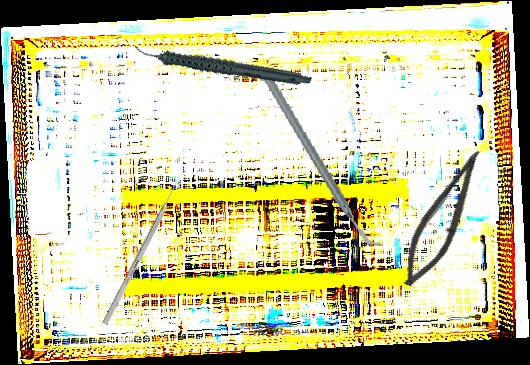Chopper: (258, 59, 384, 260)
Handpiece: (132, 8, 313, 121)
Micro Scissor: (392, 140, 491, 295)
Pusher: (102, 172, 184, 326)
